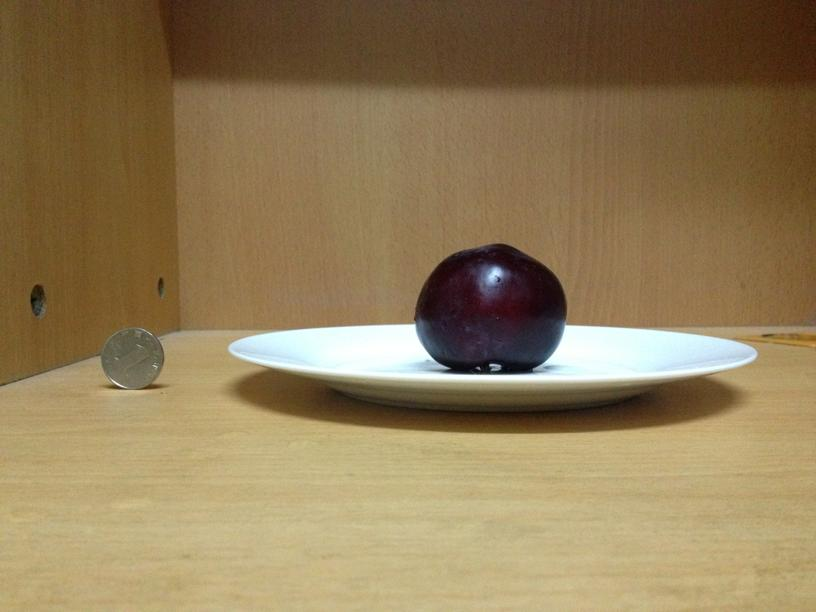coin: (101, 328, 164, 388)
plum: (412, 248, 567, 369)
